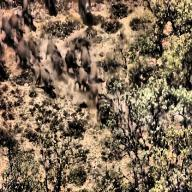boar: (6, 9, 27, 35), (36, 62, 56, 89), (66, 44, 82, 71), (21, 38, 36, 66), (47, 39, 61, 68), (89, 60, 106, 81), (75, 67, 90, 85), (88, 80, 100, 102), (80, 37, 89, 62)
